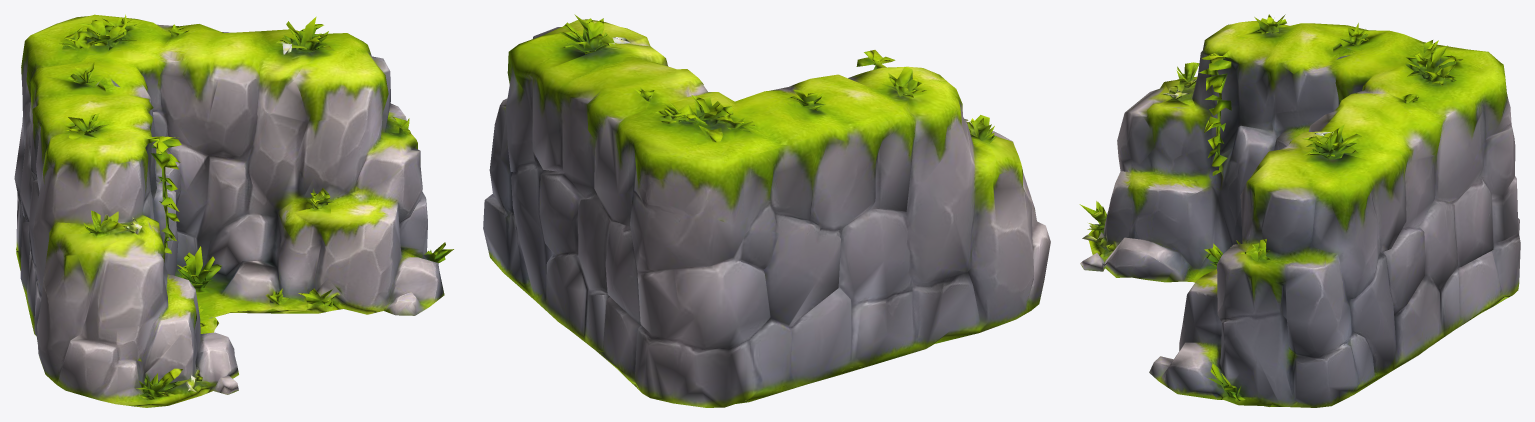
3 renders of one model, left to right at view 1: azimuth 30°, elevation 25°; view 2: azimuth 150°, elevation 25°; view 3: azimuth 270°, elevation 25°, orthographic. The views are drawn at different scales.
Parts seen in each view (by area): view 1: prop; view 2: prop; view 3: prop.
Part boxes in pixels (x1=…): prop: x1=14, y1=14, x2=453, y2=407; prop: x1=483, y1=14, x2=1050, y2=407; prop: x1=1079, y1=14, x2=1520, y2=407.
Bounding box in the file's own units: 1.88 × 0.9998 × 1.68.
1 material, 1 textured.
